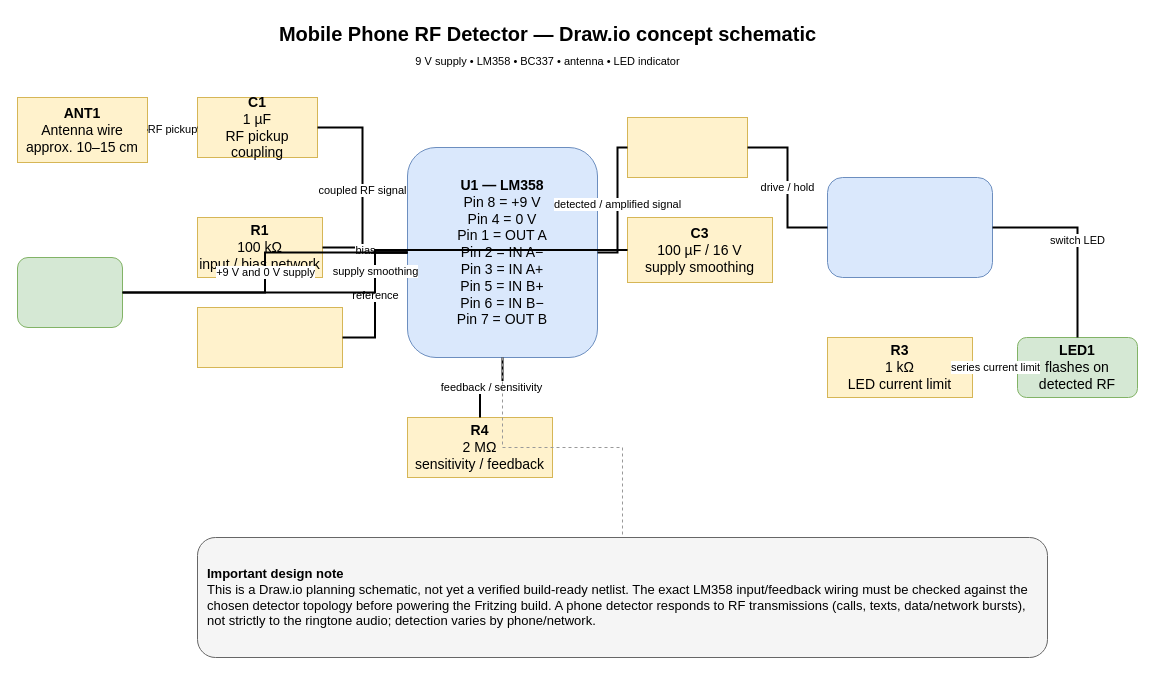
This 1155x675 diagram has some shape labels left out. Each missing label, with the centre of its shape:
"BT1 9 V battery +9 V / 0 V" goes at (x=69, y=292).
"C2 1 µF signal smoothing" goes at (x=687, y=147).
"Q1 — BC337 NPN transistor Emitter → 0 V Collector → LED− Base ← LM358 output" goes at (x=909, y=227).
"R2 220 kΩ reference / feedback network" goes at (x=269, y=337).
